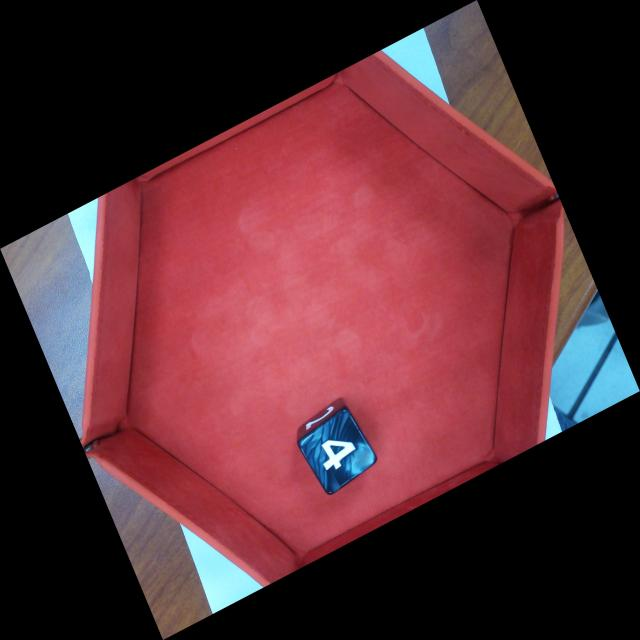dice: (296, 406, 381, 498)
